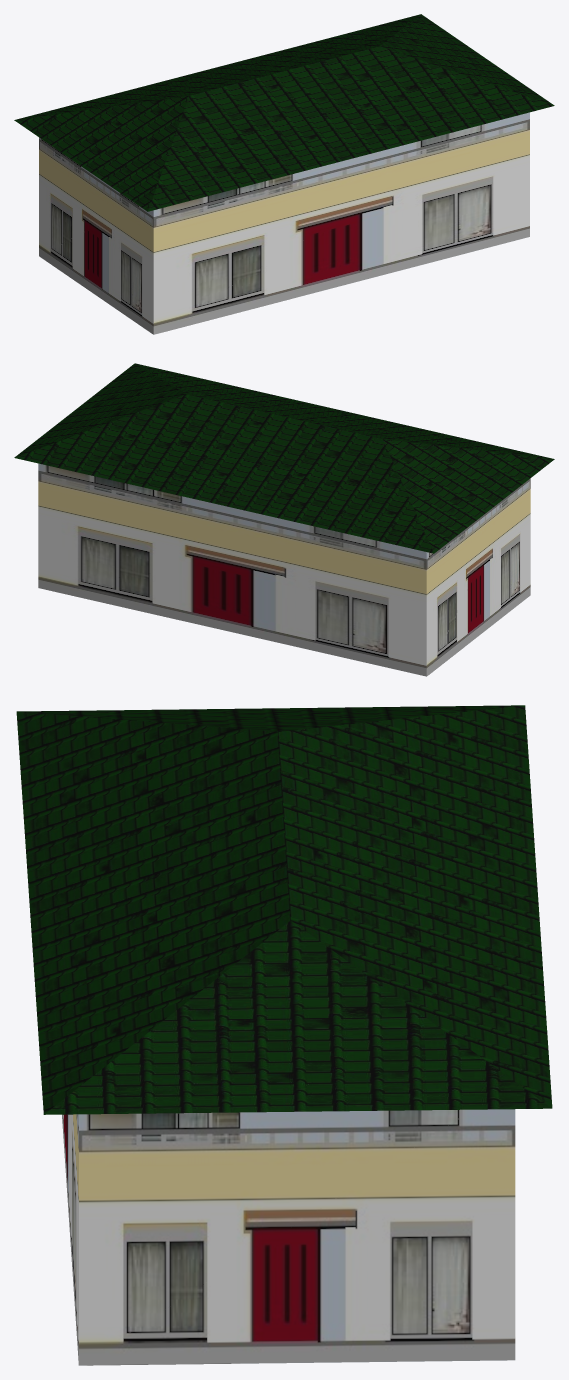
3 renders of one model, top to bottom at view 1: azimuth 30°, elevation 25°; view 2: azimuth 150°, elevation 25°; view 3: azimuth 270°, elevation 25°, orthographic. The views are drawn at different scales.
Visible parts, largest first — view 1: CityEngineMaterial_15_m, CityEngineMaterial_13_m; view 2: CityEngineMaterial_15_m, CityEngineMaterial_13_m; view 3: CityEngineMaterial_13_m, CityEngineMaterial_15_m.
Boxes of the visible parts, x1=… form: CityEngineMaterial_15_m: x1=39, y1=112, x2=529, y2=334; CityEngineMaterial_13_m: x1=14, y1=14, x2=554, y2=211; CityEngineMaterial_15_m: x1=38, y1=463, x2=530, y2=676; CityEngineMaterial_13_m: x1=14, y1=363, x2=554, y2=553; CityEngineMaterial_13_m: x1=16, y1=705, x2=552, y2=1114; CityEngineMaterial_15_m: x1=62, y1=1109, x2=515, y2=1365.
Bounding box in the file's own units: 25.24 × 10.07 × 13.96.
